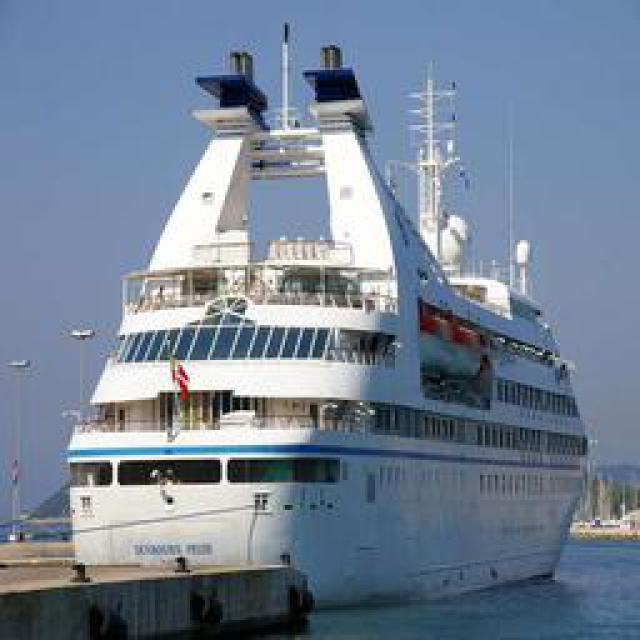Ship: (56, 50, 594, 623)
